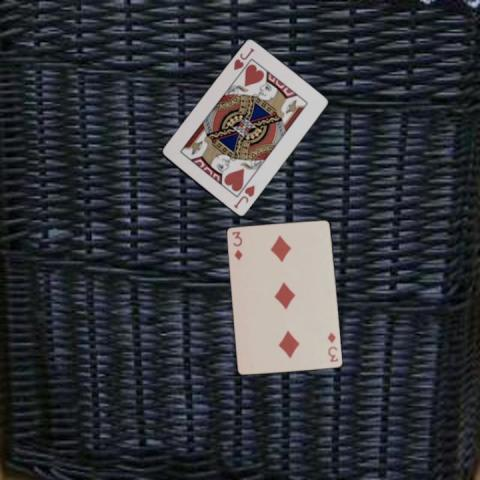3d: (325, 330, 339, 364), (230, 229, 244, 262)
Jh: (231, 182, 256, 210), (231, 45, 256, 72)
